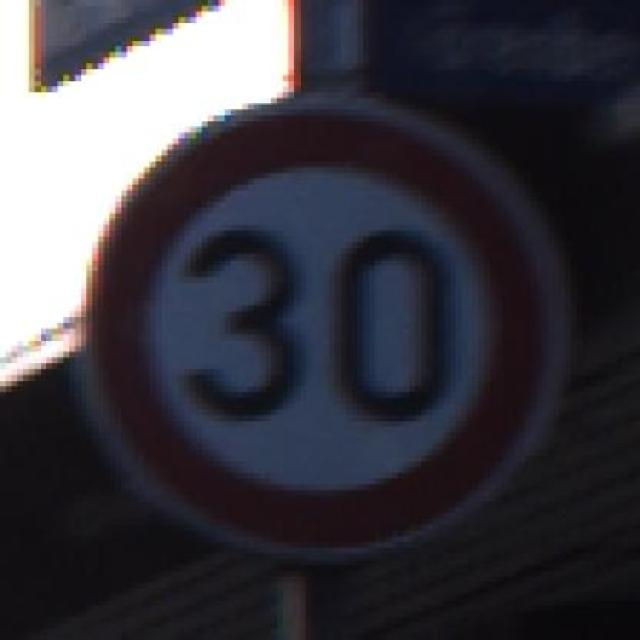Speed Limit 30 KMPh: (46, 69, 594, 588)
